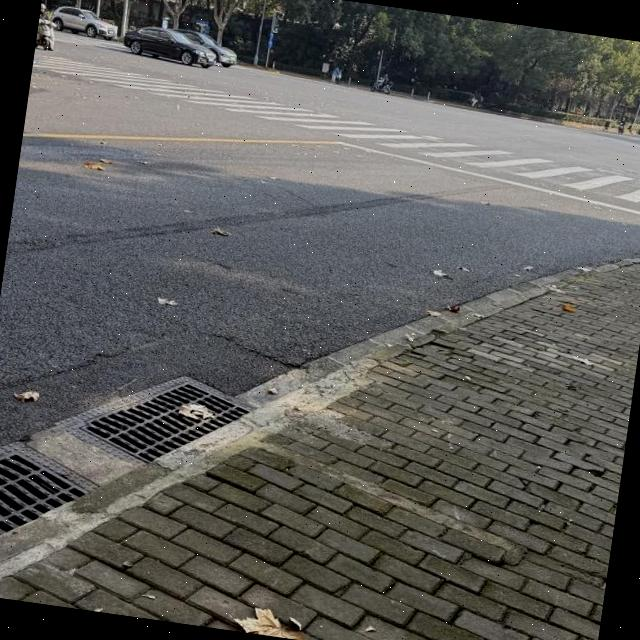curb: (0, 279, 564, 582), (593, 257, 640, 274)
